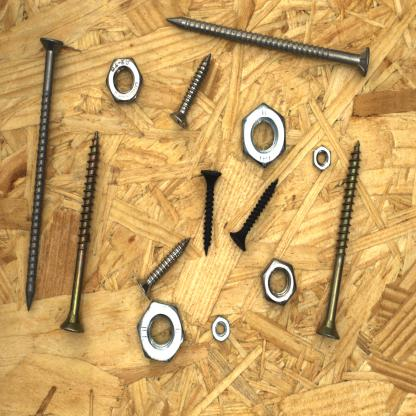screw: (162, 13, 374, 80), (22, 33, 66, 314), (314, 137, 363, 343), (58, 128, 102, 337), (226, 174, 282, 255), (133, 233, 193, 302), (167, 50, 214, 132), (199, 164, 223, 260)
